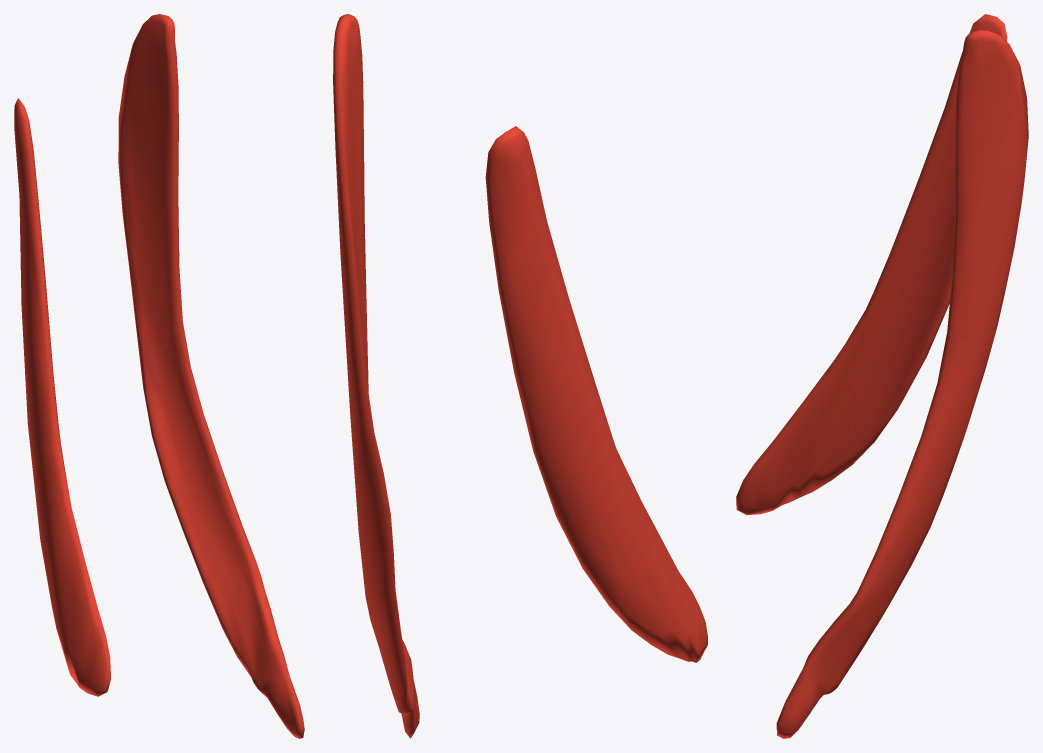
File: Dorsal_interossei_4th_metacarpal_left.glb
The picture shows the model from 3 angles, left to right: view 1: azimuth 30°, elevation 25°; view 2: azimuth 150°, elevation 25°; view 3: azimuth 270°, elevation 25°; orthographic projection. The views are drawn at different scales.
Visible parts, largest first — view 1: Dorsal_interosseus_muscles_of_4th_metacarpal_bone.l_Generate; view 2: Dorsal_interosseus_muscles_of_4th_metacarpal_bone.l_Generate; view 3: Dorsal_interosseus_muscles_of_4th_metacarpal_bone.l_Generate.
Part boxes in pixels (x1=…): Dorsal_interosseus_muscles_of_4th_metacarpal_bone.l_Generate: x1=14, y1=14, x2=304, y2=738; Dorsal_interosseus_muscles_of_4th_metacarpal_bone.l_Generate: x1=333, y1=14, x2=707, y2=738; Dorsal_interosseus_muscles_of_4th_metacarpal_bone.l_Generate: x1=736, y1=14, x2=1028, y2=738.
Bounding box in the file's own units: 0.0108 × 0.0295 × 0.0114.
